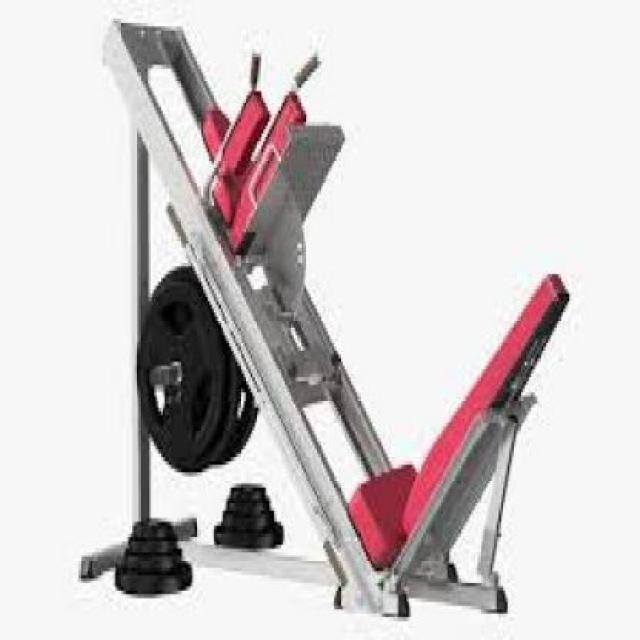leg press: (77, 8, 585, 629)
